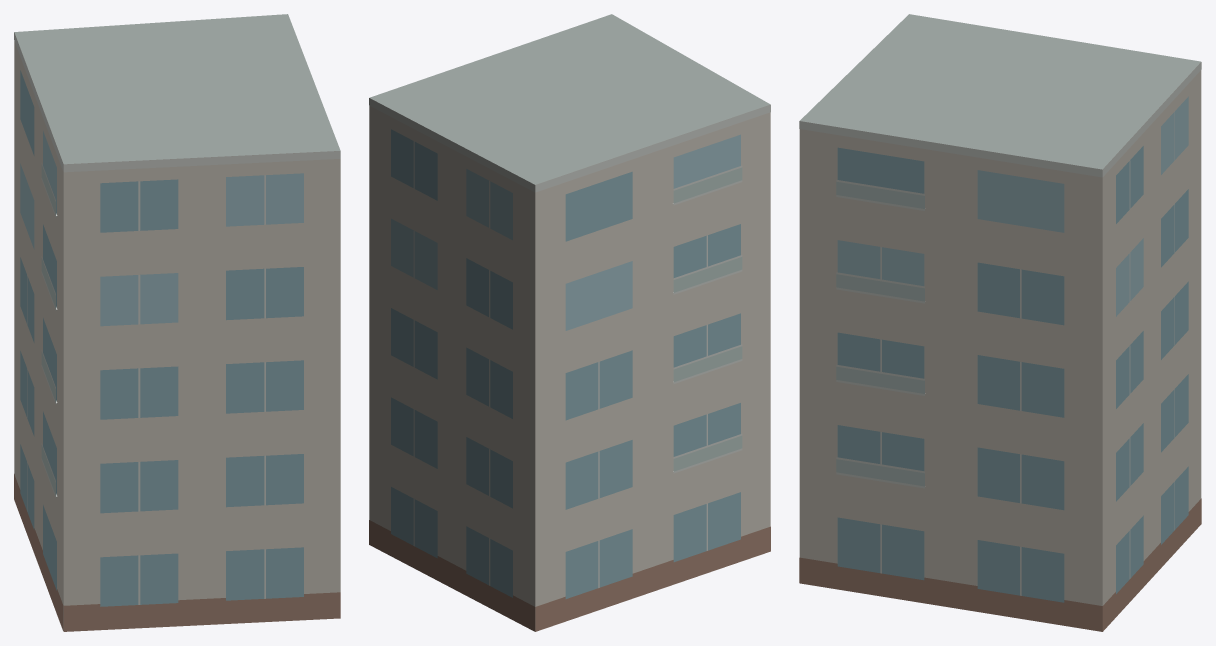
The model's file is survey-upis-32731753.glb.
3 views of the same model, side by side, from view 1: azimuth 30°, elevation 25°; view 2: azimuth 150°, elevation 25°; view 3: azimuth 270°, elevation 25° (orthographic). The views are drawn at different scales.
Parts seen in each view (by area): view 1: survey-upis-32731753.tmp; view 2: survey-upis-32731753.tmp; view 3: survey-upis-32731753.tmp.
Part boxes in pixels (left/top/right/bottom): survey-upis-32731753.tmp: left=14, top=14, right=340, bottom=631; survey-upis-32731753.tmp: left=369, top=14, right=770, bottom=631; survey-upis-32731753.tmp: left=799, top=14, right=1201, bottom=631.
Size of the model in its own units: 10.25 by 14.2 by 11.2.
